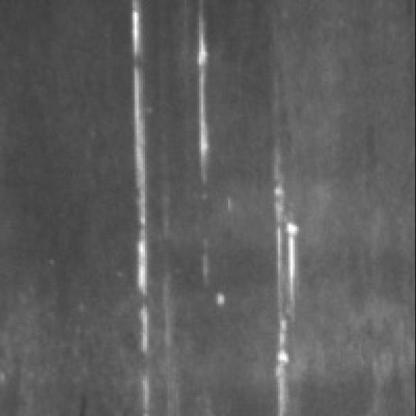scratches: (123, 6, 173, 416), (270, 102, 306, 416), (196, 9, 220, 186)
